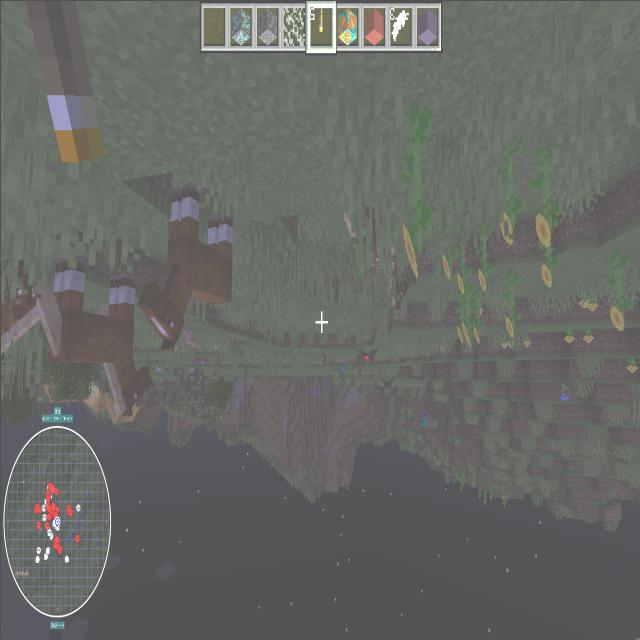Spider: (353, 339, 377, 373)
Zombie: (331, 353, 347, 381), (417, 399, 429, 435)
pig: (182, 326, 196, 350)
